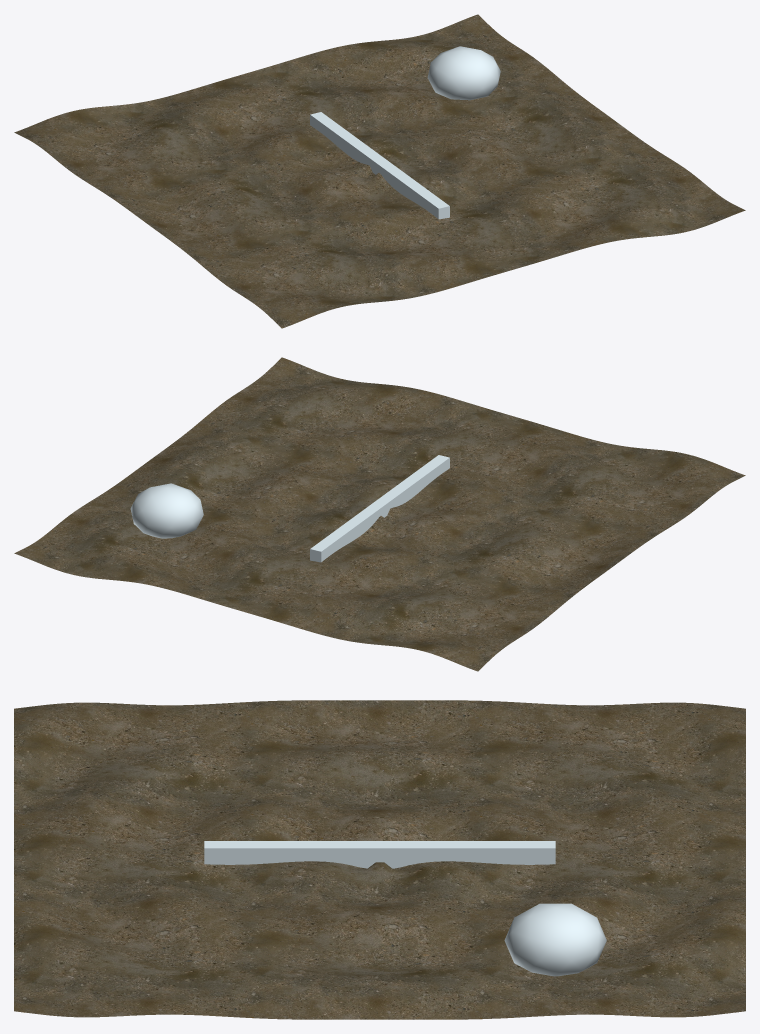
File: periglacial.glb
3 renders of one model, top to bottom at view 1: azimuth 30°, elevation 25°; view 2: azimuth 150°, elevation 25°; view 3: azimuth 270°, elevation 25°, orthographic. The views are drawn at different scales.
Visible parts, largest first — view 1: Periglacial_Patterned, Periglacial_Pingo, Periglacial_IceWedge; view 2: Periglacial_Patterned, Periglacial_Pingo, Periglacial_IceWedge; view 3: Periglacial_Patterned, Periglacial_IceWedge, Periglacial_Pingo.
Part boxes in pixels (x1,y1,x2,y2): Periglacial_Patterned: [14, 14, 745, 328]; Periglacial_Pingo: [427, 46, 500, 100]; Periglacial_IceWedge: [310, 112, 449, 219]; Periglacial_Patterned: [14, 357, 745, 671]; Periglacial_Pingo: [130, 483, 203, 538]; Periglacial_IceWedge: [310, 455, 449, 562]; Periglacial_Patterned: [14, 700, 745, 1019]; Periglacial_IceWedge: [204, 841, 555, 868]; Periglacial_Pingo: [504, 903, 606, 976].
Size of the model in its own units: 5 by 0.82 by 5.
Materials: 2 (1 with a texture image).
